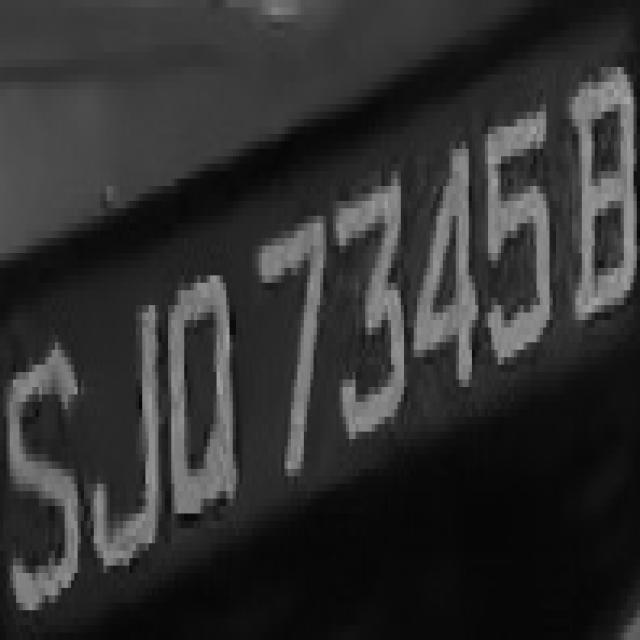3: (323, 164, 404, 461)
4: (391, 134, 488, 409)
5: (482, 90, 559, 394)
7: (249, 201, 333, 499)
B: (569, 30, 637, 335)
J: (78, 268, 168, 588)
Q: (155, 253, 243, 551)
S: (3, 305, 81, 625)
